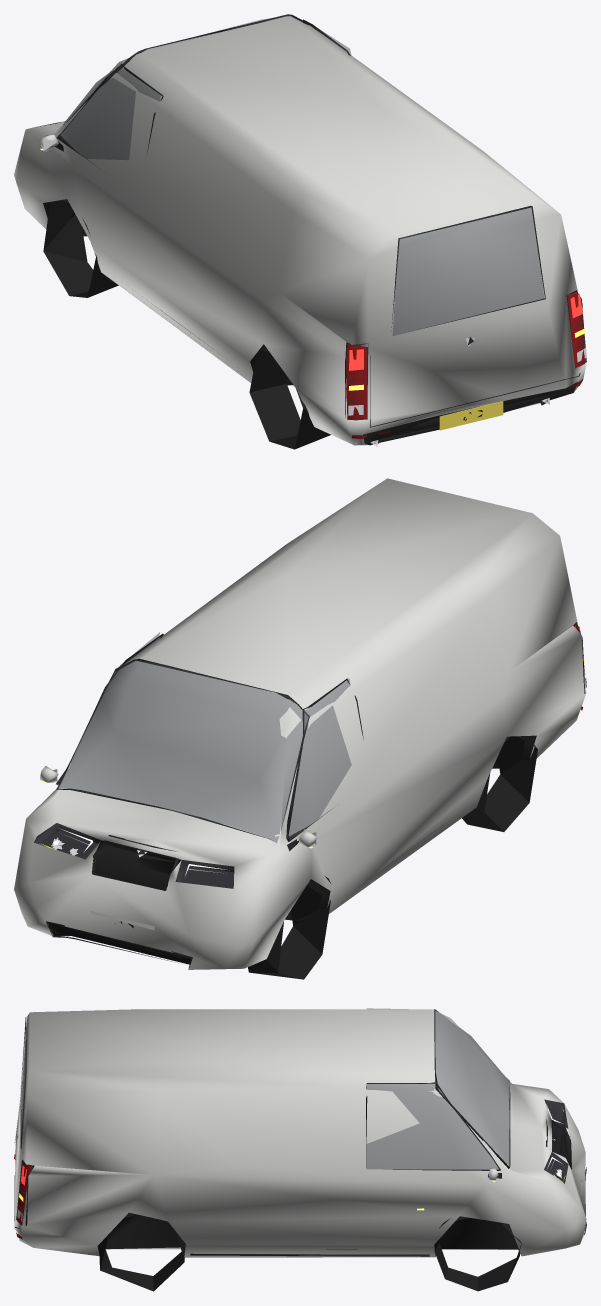
The model's file is civ_van_lod1.glb.
3 renders of one model, top to bottom at view 1: azimuth 30°, elevation 25°; view 2: azimuth 150°, elevation 25°; view 3: azimuth 270°, elevation 25°, orthographic. The views are drawn at different scales.
Visible parts, largest first — view 1: civ_van.001; view 2: civ_van.001; view 3: civ_van.001.
Part boxes in pixels (x1,y1,x2,y2): civ_van.001: (14,14,586,449); civ_van.001: (14,478,586,979); civ_van.001: (14,1008,586,1291).
Bounding box in the file's own units: 2.26 × 2 × 5.
